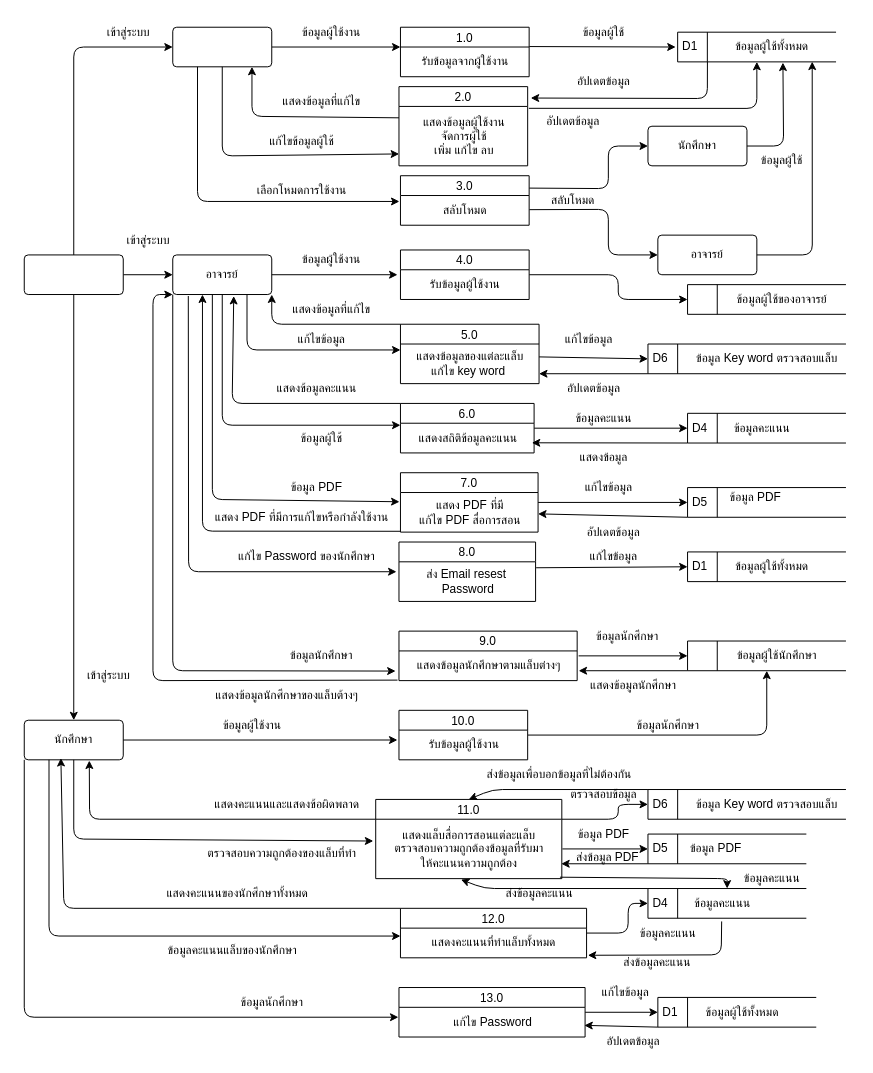
The diagram is 873 pixels wide and 1073 high, and some of its shapes have lost their labels. The box of each missing label's shape, as (x1, y1, x2, y2) in pixels:
D2: (687, 284, 846, 314)
D3: (687, 640, 846, 671)
ผู้ดูแลระบบ: (172, 26, 272, 67)
ผู้ใช้: (23, 254, 123, 295)
